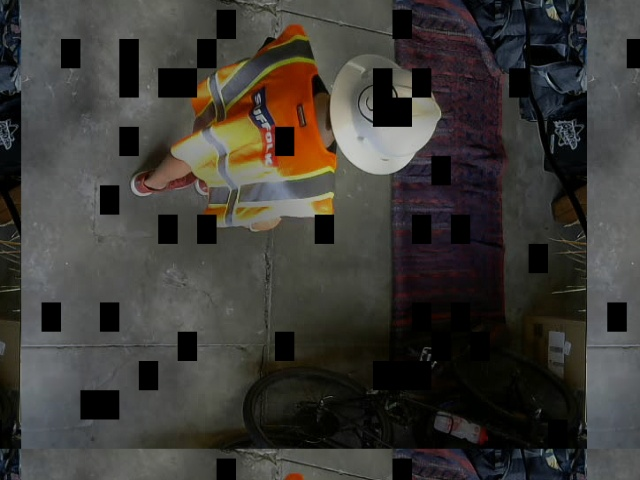three: (358, 82, 398, 124)
